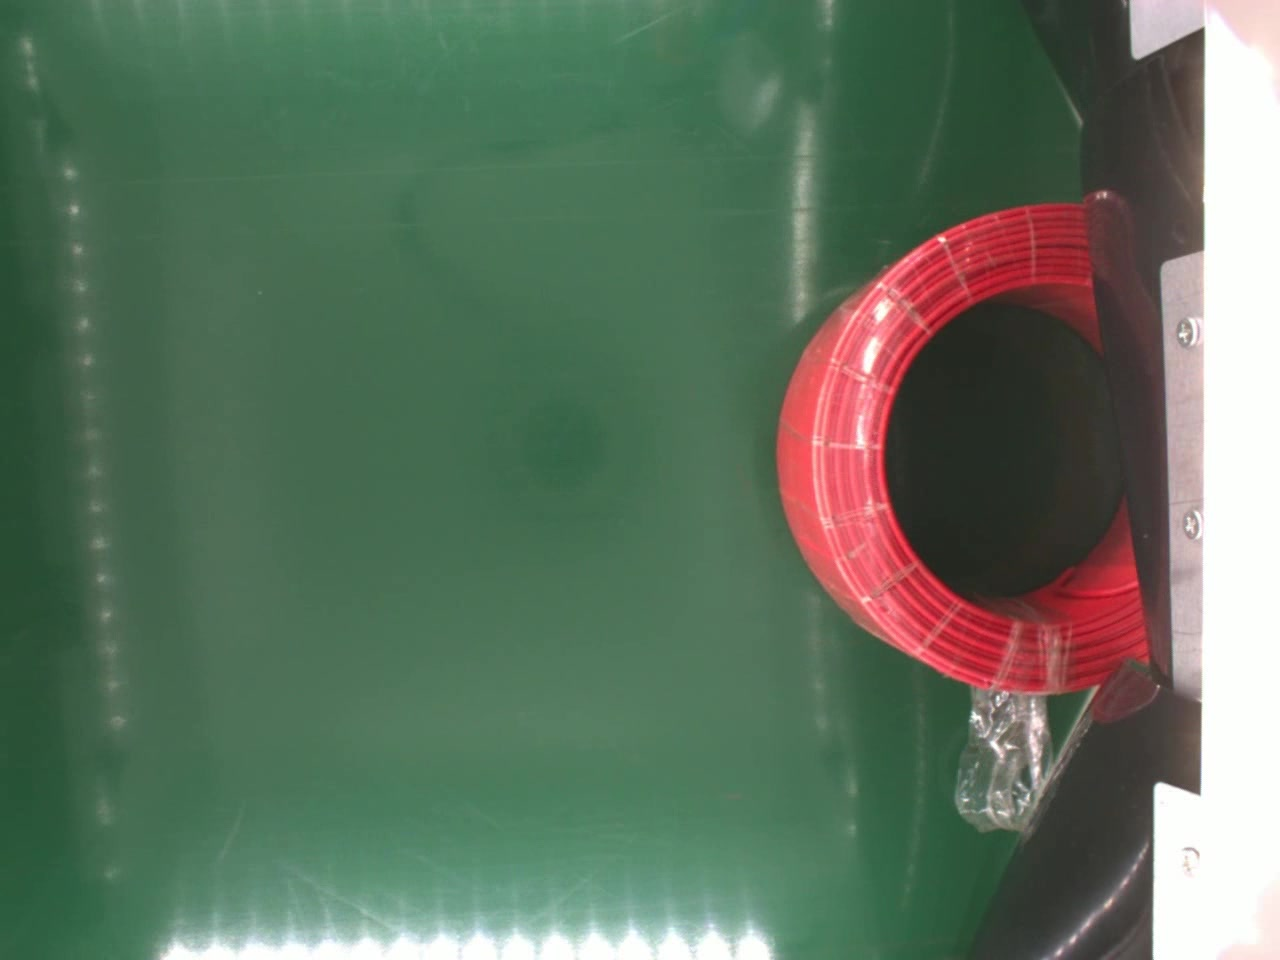red: (778, 197, 1149, 697)
